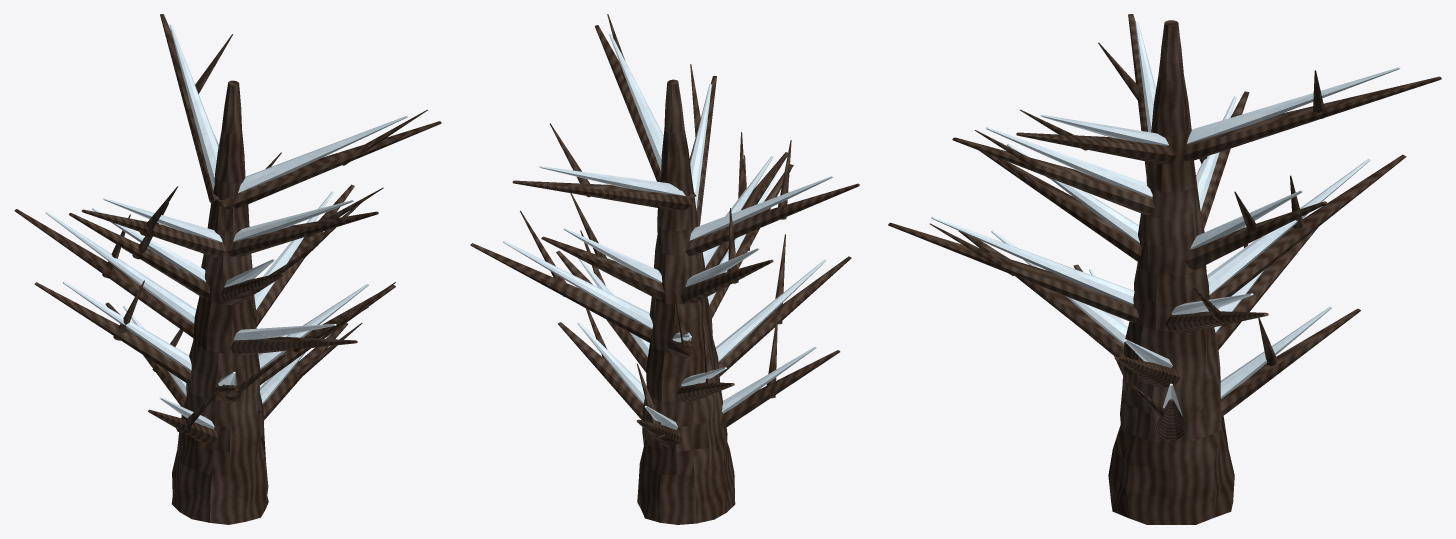
File: ThirdRoom_CanyonDeadTree.fbx
3 renders of one model, left to right at view 1: azimuth 30°, elevation 25°; view 2: azimuth 150°, elevation 25°; view 3: azimuth 270°, elevation 25°, orthographic. The views are drawn at different scales.
Visible parts, largest first — view 1: WO_ThirdRoom_CanyonDeadTree_LOD0; view 2: WO_ThirdRoom_CanyonDeadTree_LOD0; view 3: WO_ThirdRoom_CanyonDeadTree_LOD0.
Boxes of the visible parts, x1,y1,x2,y2 form: WO_ThirdRoom_CanyonDeadTree_LOD0: (14, 14, 441, 524); WO_ThirdRoom_CanyonDeadTree_LOD0: (470, 14, 859, 524); WO_ThirdRoom_CanyonDeadTree_LOD0: (888, 14, 1441, 524).
Size of what is drawn, in the model's own units: 4.83 by 5.83 by 6.
